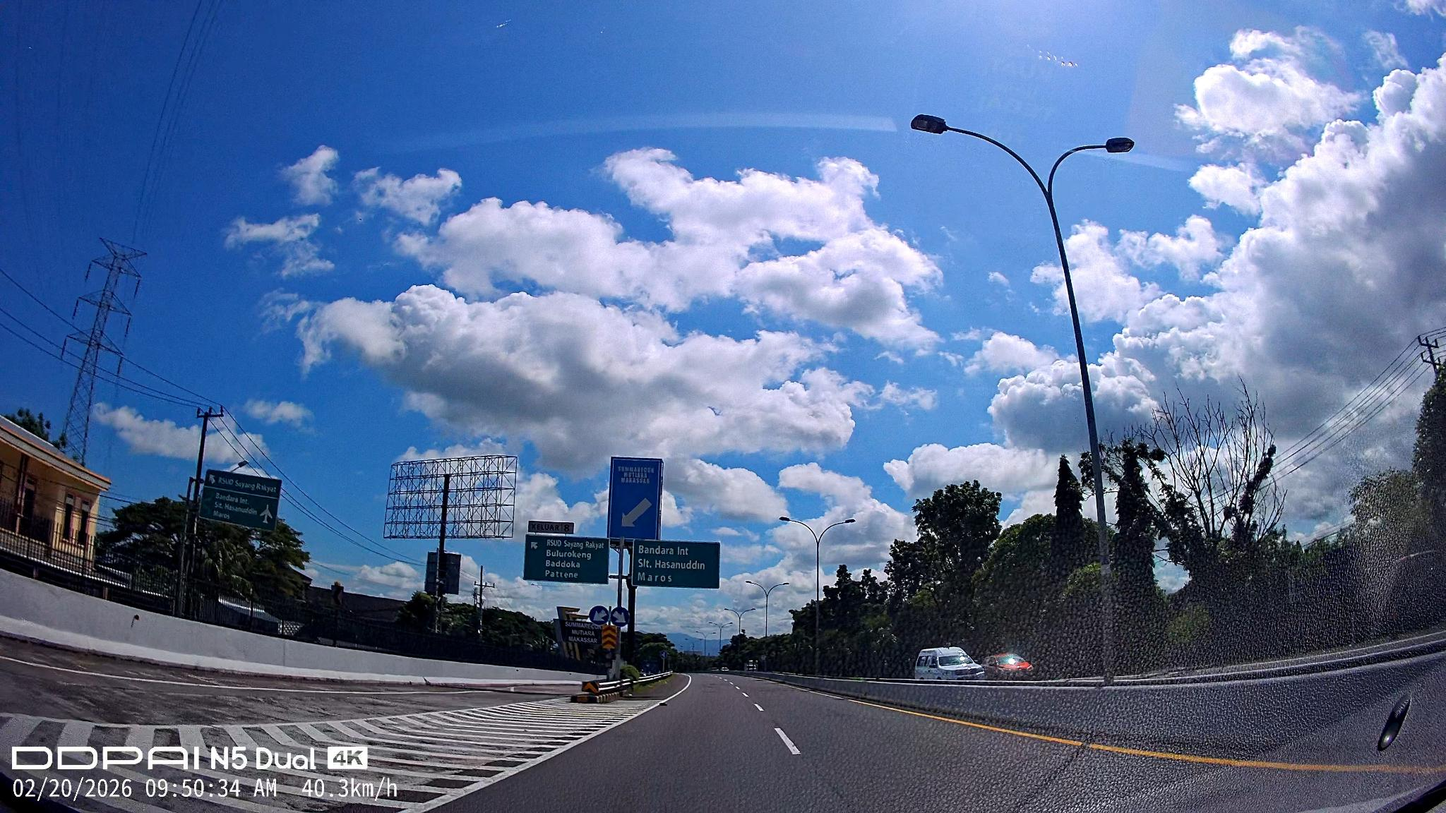rambu_teks: (631, 538, 721, 590), (523, 533, 610, 584)
